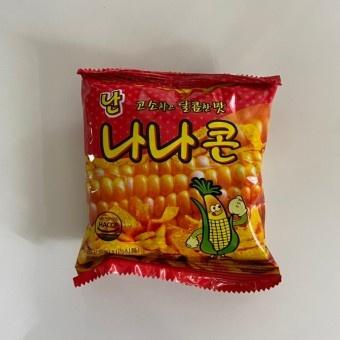snack: (73, 68, 284, 290)
